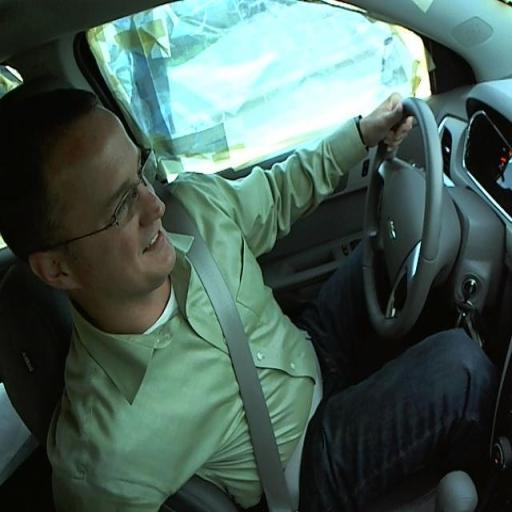turning: (14, 85, 480, 414)
